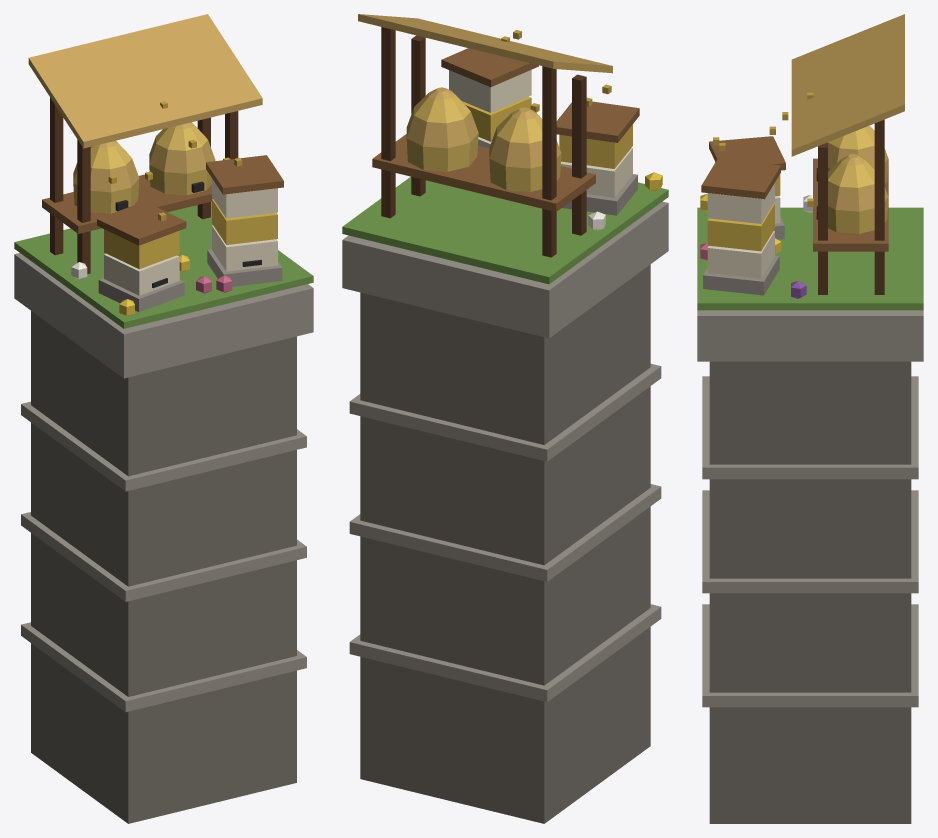
The model's file is decor_beehives.glb.
3 renders of one model, left to right at view 1: azimuth 30°, elevation 25°; view 2: azimuth 150°, elevation 25°; view 3: azimuth 270°, elevation 25°, orthographic. The views are drawn at different scales.
Parts seen in each view (by area): view 1: decor_beehives; view 2: decor_beehives; view 3: decor_beehives.
Part boxes in pixels (bbox=[...]): decor_beehives: bbox=[14, 14, 313, 823]; decor_beehives: bbox=[342, 14, 668, 823]; decor_beehives: bbox=[697, 14, 923, 823].
Size of the model in its own units: 1.8 by 6.33 by 1.8.
